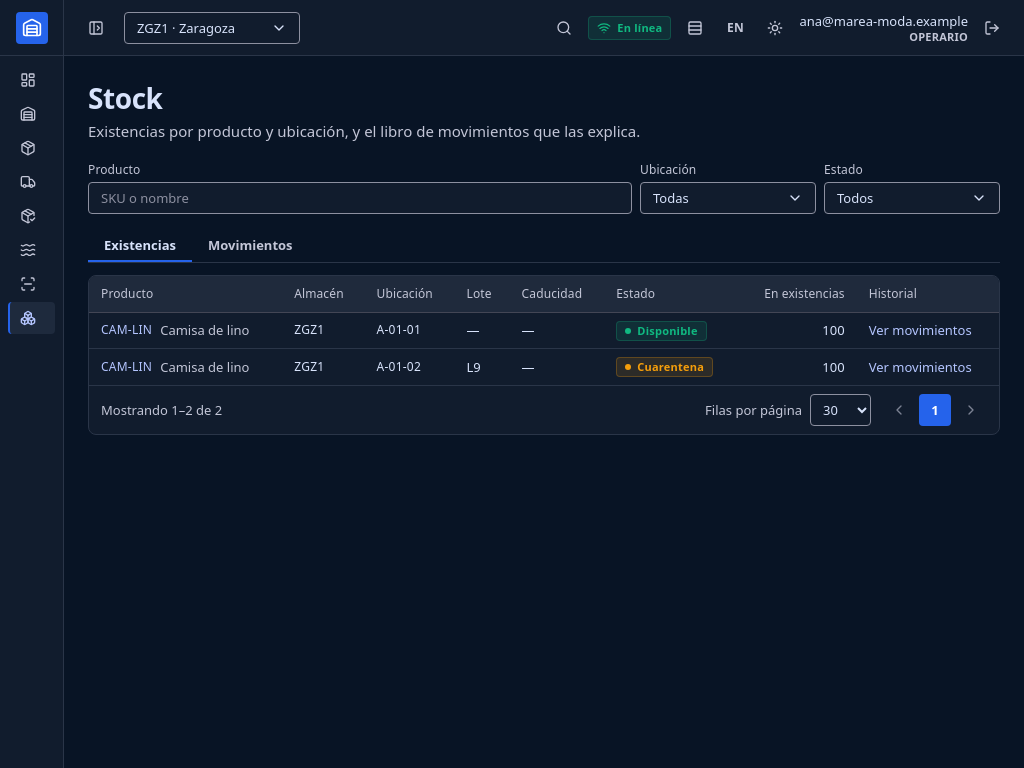
the stock › goes from a line to its own movements, and back to all of them
This screenshot has width=1024, height=768.
Step 1. Click the link with aria-label "Ver los movimientos de CAM-LIN en A-01-01" → (920,330), box [869,321,972,339]
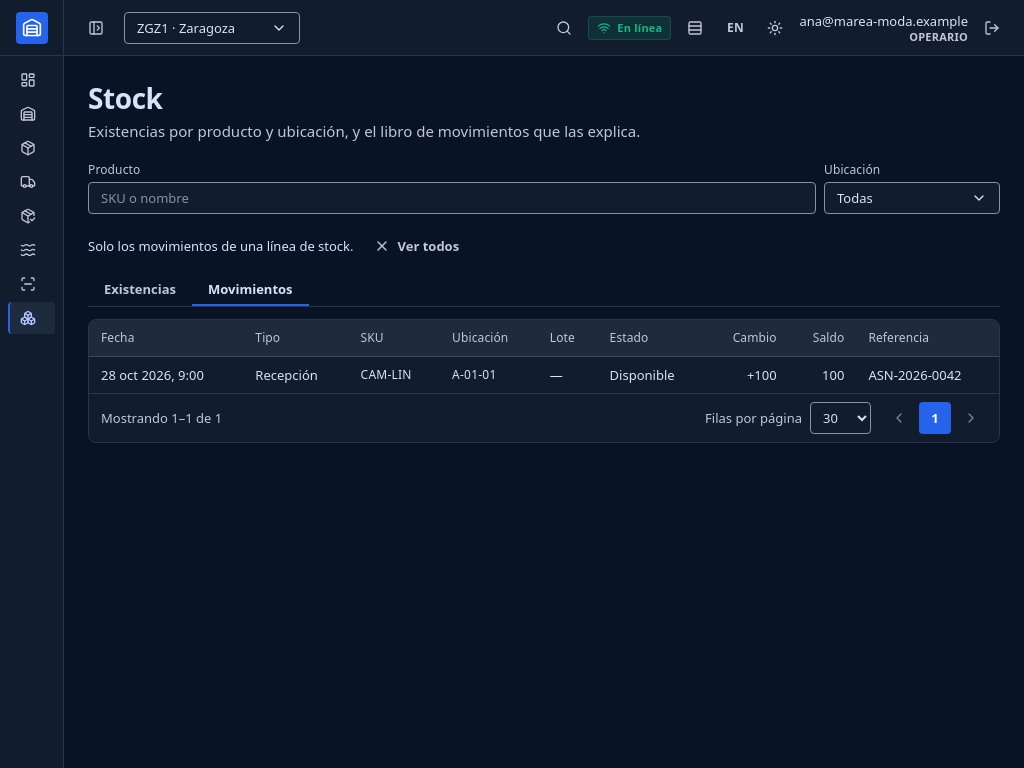
Check: the text "Solo los movimientos de una línea de stock." is shown, box [88,237,354,255]
Check: the text "ASN-2026-0042" is shown, box [856,356,999,392]
Step 2. Click the button "Ver todos" → (416,246), box [362,230,471,262]
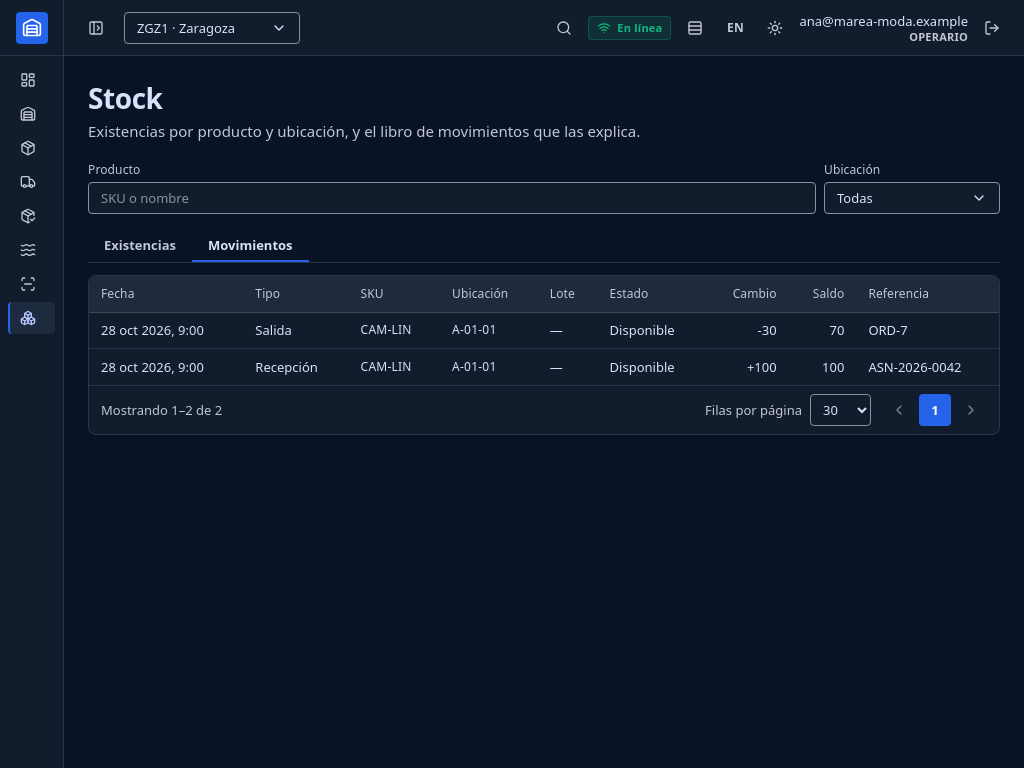
Check: the text "ORD-7" is shown, box [856,312,999,348]
